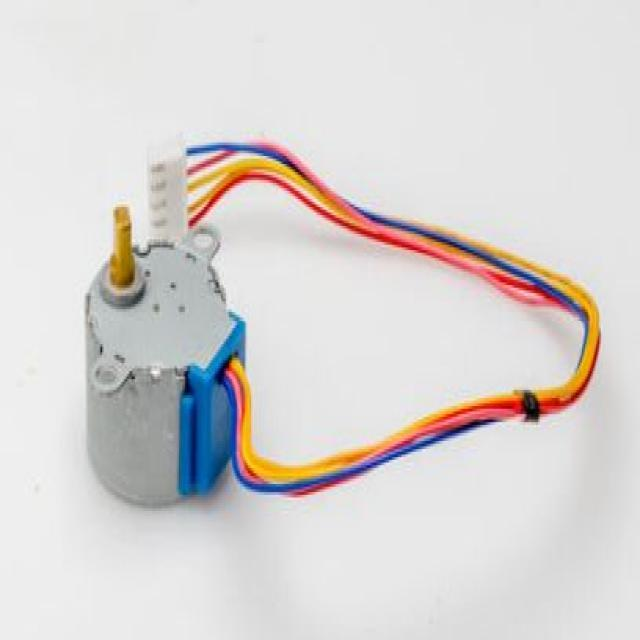electronic: (83, 134, 601, 508)
